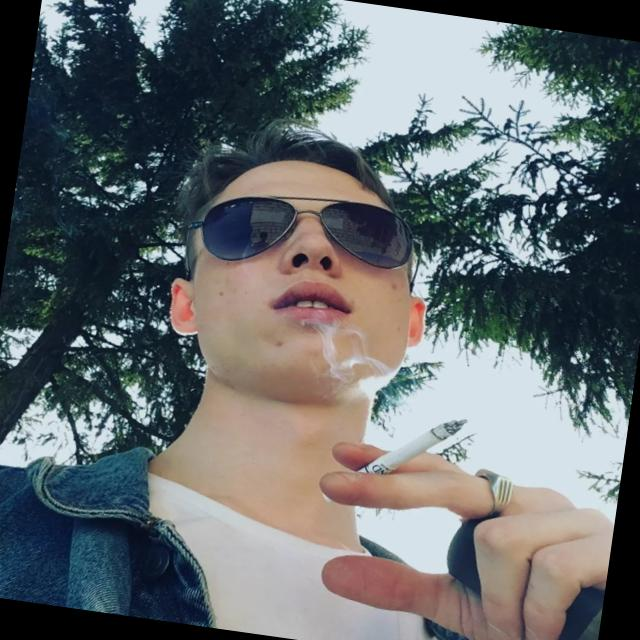smoke: (353, 400, 471, 492)
